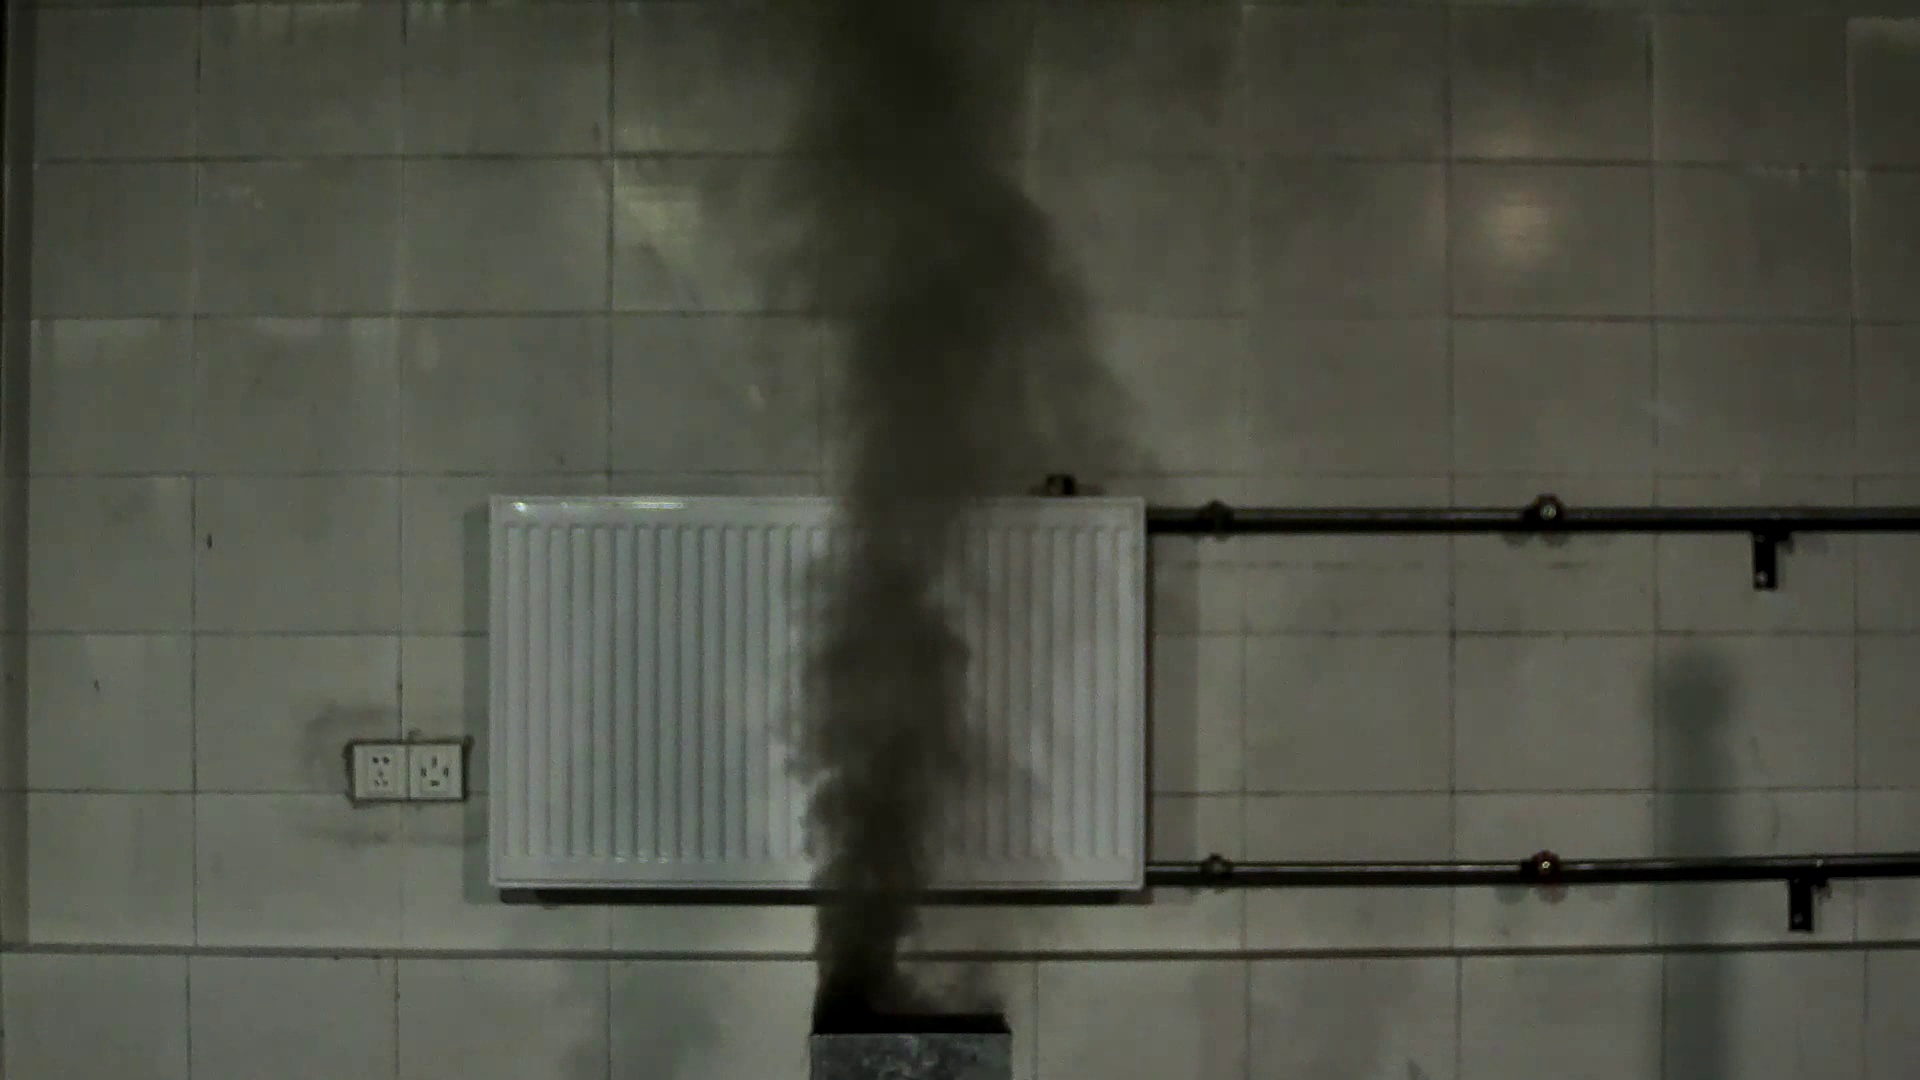smoke: (717, 45, 1158, 1022)
